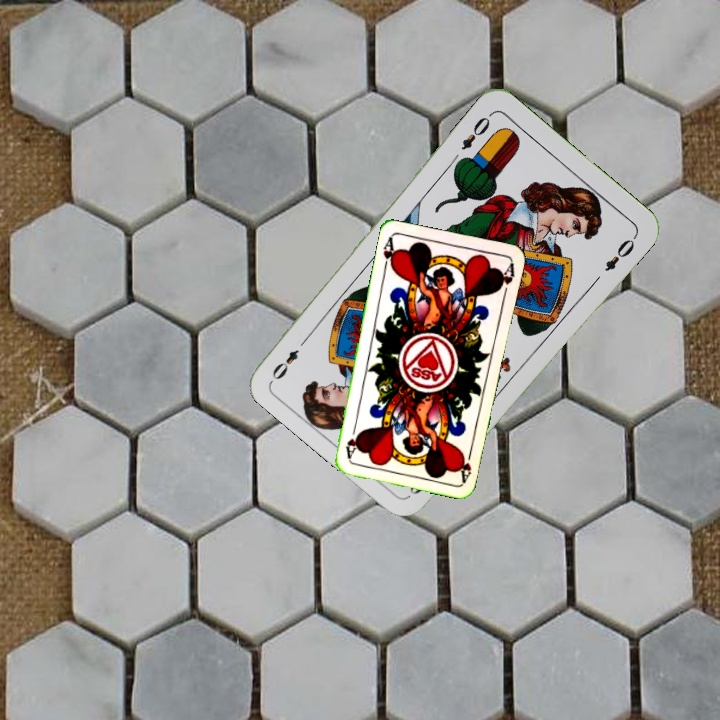EO: (457, 109, 495, 153)
HA: (379, 234, 399, 274), (456, 443, 475, 484)
